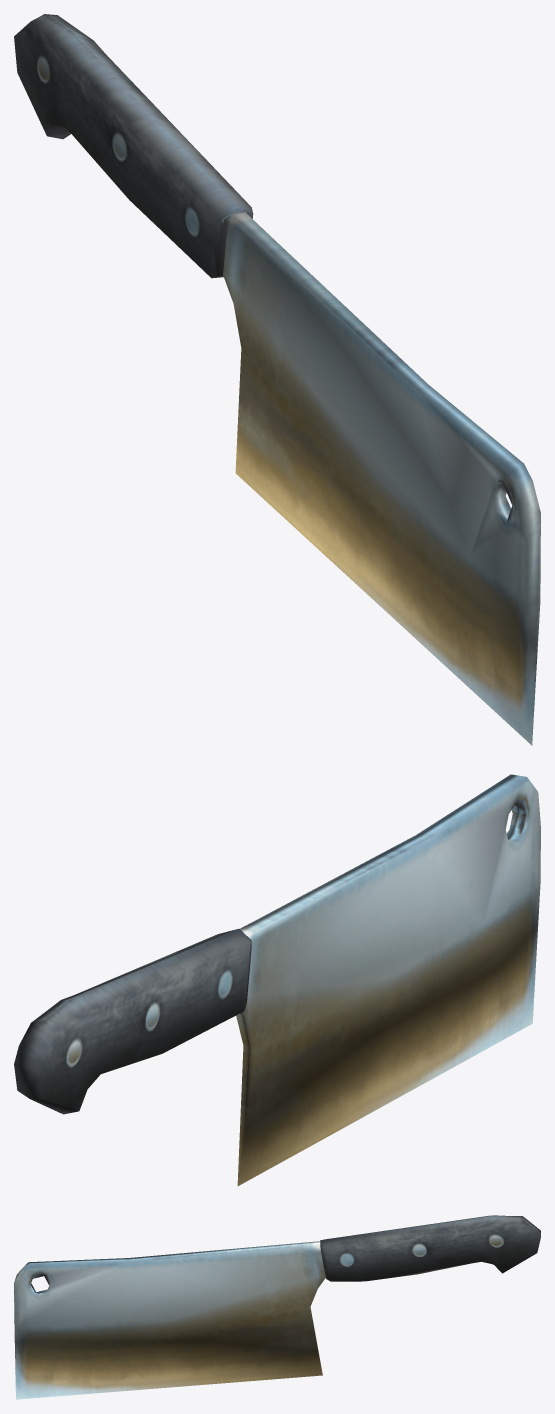
Rendered from knifeHat.glb.
The picture shows the model from 3 angles, top to bottom: view 1: azimuth 30°, elevation 25°; view 2: azimuth 150°, elevation 25°; view 3: azimuth 270°, elevation 25°; orthographic projection. The views are drawn at different scales.
Parts seen in each view (by area): view 1: knifehat; view 2: knifehat; view 3: knifehat.
Part boxes in pixels (bbox=[...]): knifehat: bbox=[14, 14, 540, 745]; knifehat: bbox=[14, 774, 540, 1185]; knifehat: bbox=[14, 1215, 540, 1399].
Bounding box in the file's own units: 0.0649 × 0.6191 × 1.58.
1 material, 1 textured.
